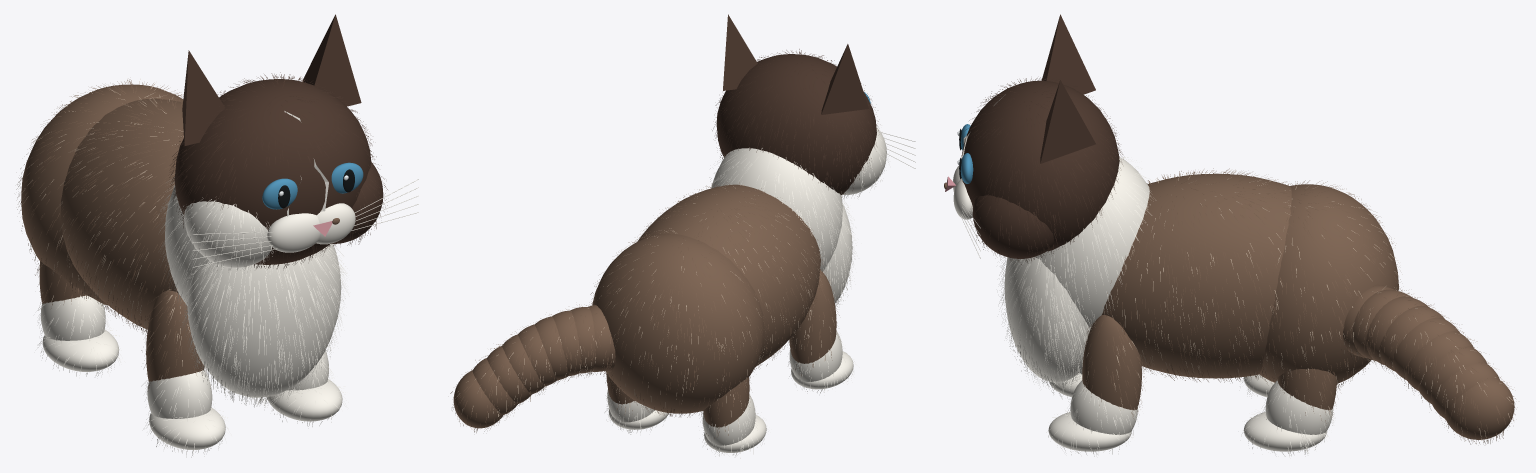
File: niangao-experimental.glb
3 views of the same model, side by side, from view 1: azimuth 30°, elevation 25°; view 2: azimuth 150°, elevation 25°; view 3: azimuth 270°, elevation 25° (orthographic). The views are drawn at different scales.
Parts seen in each view (by area): view 1: Torso, Head, WhiteBib, GroomedFur_Ribbons, Rump, Cheek.L, Leg, WhiteSock, DarkEar.001, WhiteSock.001, Neck, DarkEar (+10 smaller); view 2: Rump, Head, Torso, GroomedFur_Ribbons, Neck, Leg, DarkEar, Tail.010, DarkEar.001, WhiteBib, Leg.001, WhiteSock (+14 smaller); view 3: Torso, Rump, Head, GroomedFur_Ribbons, Neck, WhiteBib, Leg.002, Cheek.R, Tail.010, DarkEar.001, WhiteSock.002, WhiteSock.003 (+12 smaller).
Part boxes in pixels (box(x1,y1,x2,y2)): Torso: box(60, 98, 183, 329); Head: box(174, 79, 371, 264); WhiteBib: box(187, 244, 341, 397); GroomedFur_Ribbons: box(16, 72, 387, 457); Rump: box(21, 84, 183, 304); Cheek.L: box(184, 201, 271, 267); Leg: box(146, 290, 203, 381); WhiteSock: box(147, 370, 212, 418); DarkEar.001: box(303, 14, 361, 106); WhiteSock.001: box(40, 295, 105, 340); Neck: box(165, 185, 211, 305); DarkEar: box(182, 50, 225, 145); Rump: box(592, 233, 764, 413); Head: box(716, 54, 876, 194); Torso: box(637, 184, 820, 366); GroomedFur_Ribbons: box(450, 49, 888, 458); Neck: box(711, 148, 842, 271); Leg: box(789, 270, 836, 363); DarkEar: box(821, 44, 868, 114); Tail.010: box(453, 370, 503, 428); DarkEar.001: box(723, 14, 757, 90); WhiteBib: box(823, 203, 852, 303); Leg.001: box(703, 377, 749, 427); WhiteSock: box(789, 330, 842, 381); Torso: box(1102, 173, 1291, 378); Rump: box(1259, 184, 1398, 383); Head: box(961, 80, 1119, 251); GroomedFur_Ribbons: box(965, 75, 1516, 456); Neck: box(1035, 157, 1149, 328); WhiteBib: box(1004, 257, 1090, 382); Leg.002: box(1082, 315, 1141, 410); Cheek.R: box(972, 195, 1054, 258); Tail.010: box(1445, 378, 1514, 439); DarkEar.001: box(1040, 80, 1095, 163); WhiteSock.002: box(1070, 380, 1137, 434); WhiteSock.003: box(1265, 380, 1333, 434).
Bounding box in the file's own units: 0.7781 × 1.05 × 1.45.
